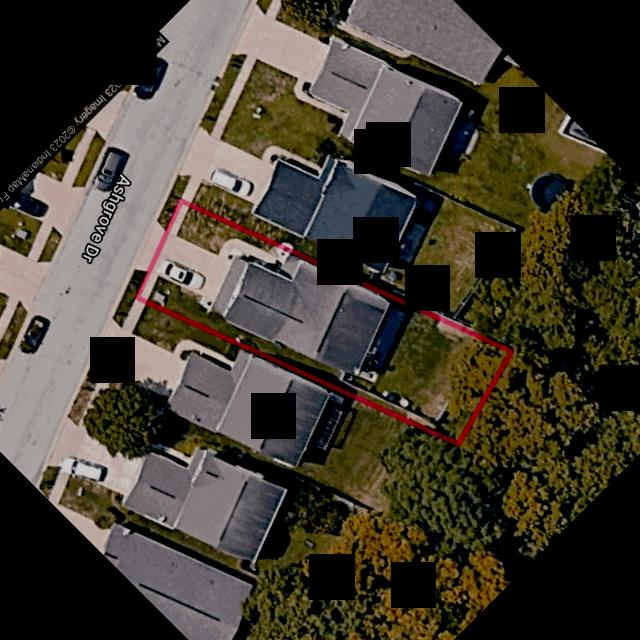Driveway: (152, 233, 286, 310)
Extra Driveway: (134, 221, 162, 268)
Extra Lawn: (156, 194, 180, 228), (123, 268, 144, 298)
House: (212, 255, 388, 372)
Other: (356, 301, 411, 382), (434, 320, 465, 341), (381, 391, 397, 403), (396, 396, 408, 407)
